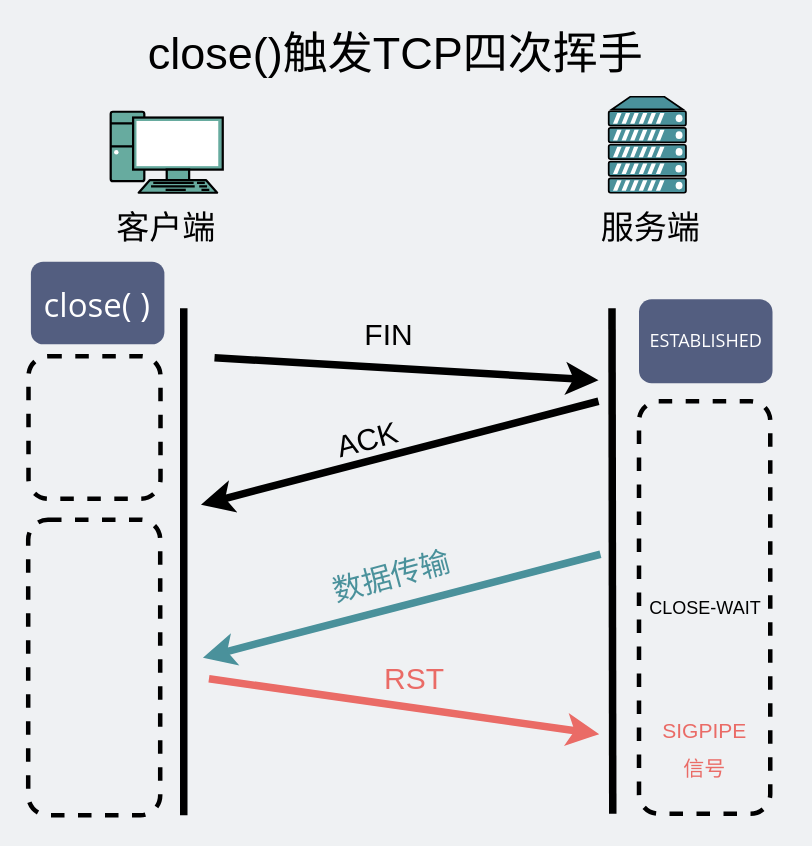
Image size: 812x846. Some labels were removed from this diagram. The shapes that lost their labels are listed below. From the top down, each one's centre as x and y in pixels, then its label:
At pixel 94 426: "FIN-WAIT-1".
At pixel 93 667: "FIN-WAIT-2".
